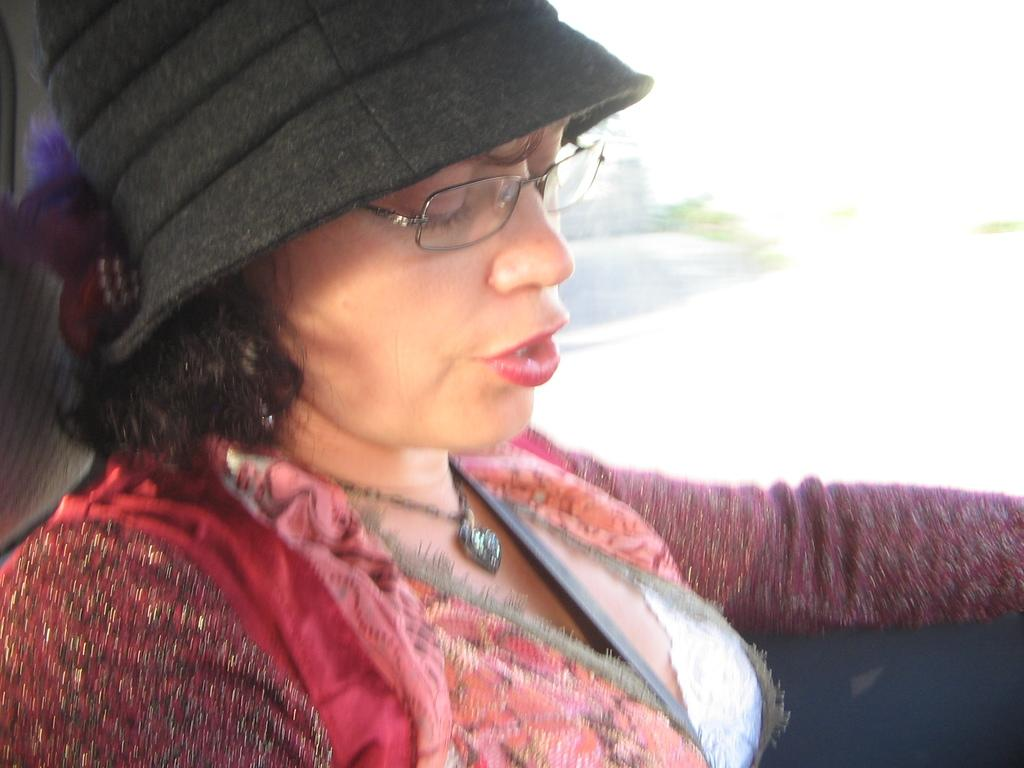Hat: (34, 0, 656, 363)
